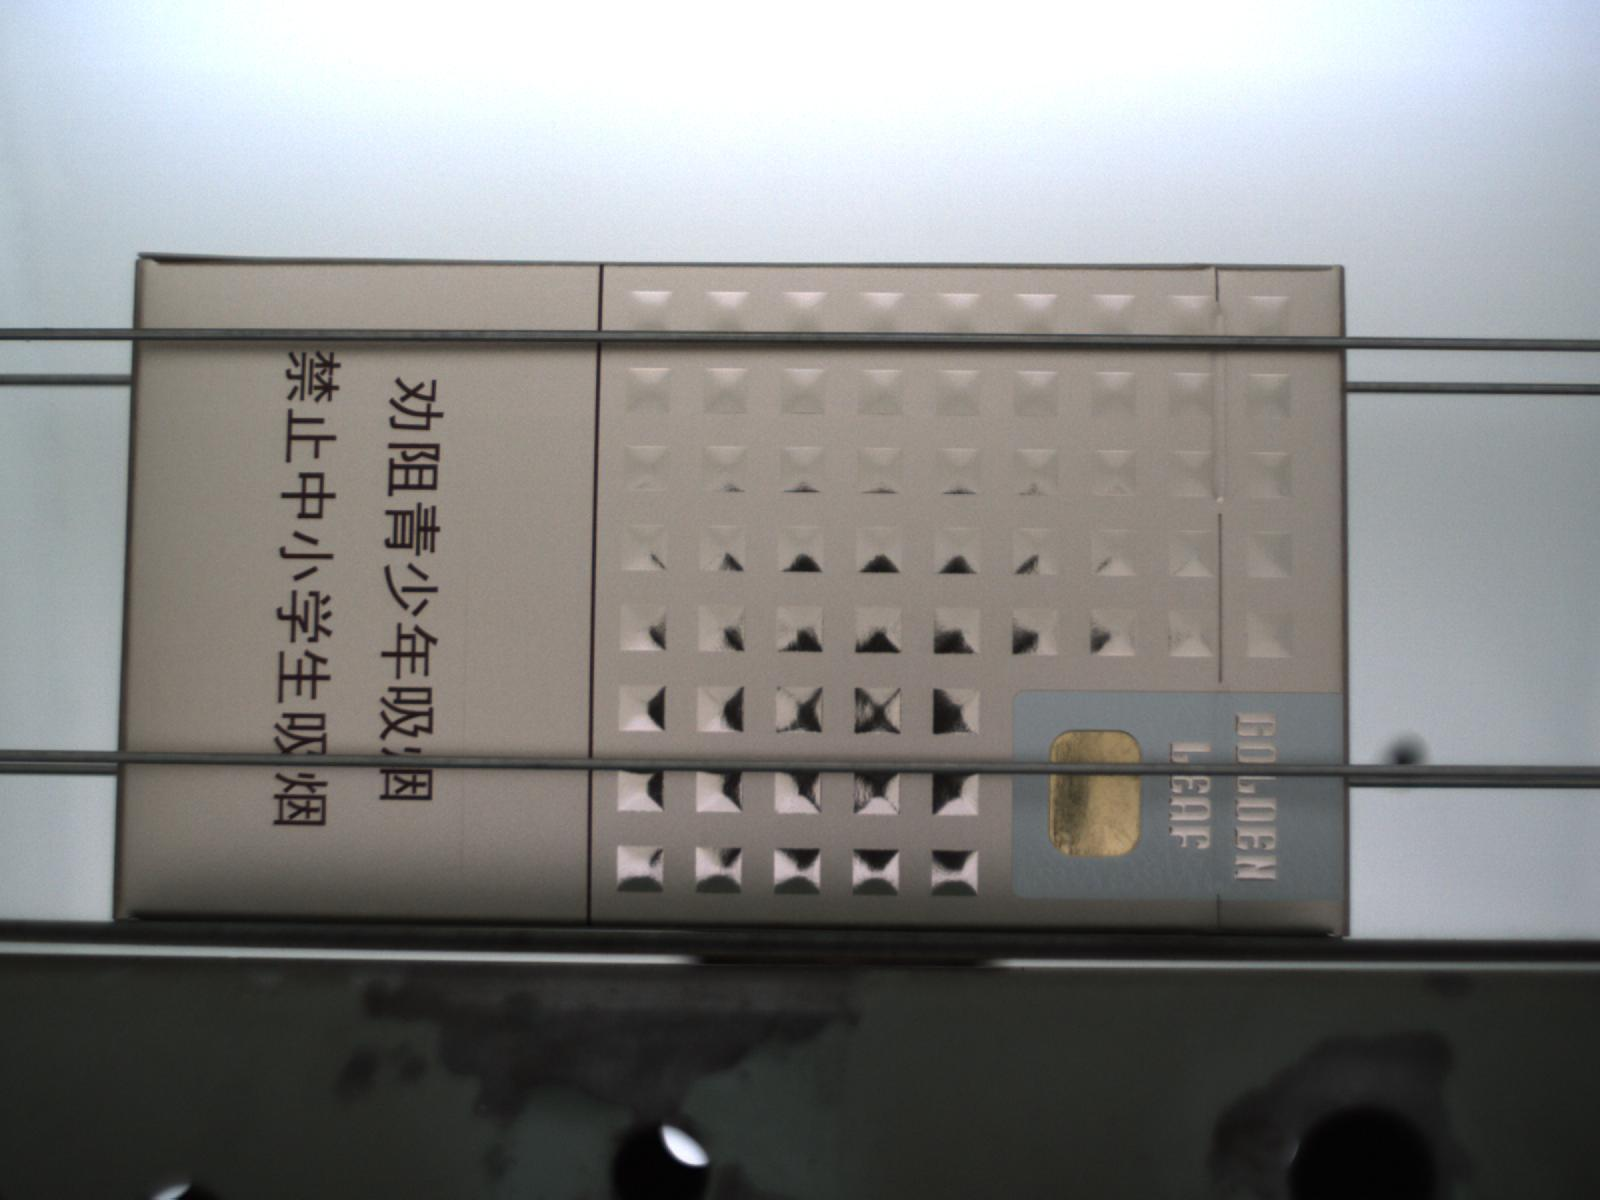dirtyScratch: (454, 567, 476, 874)
